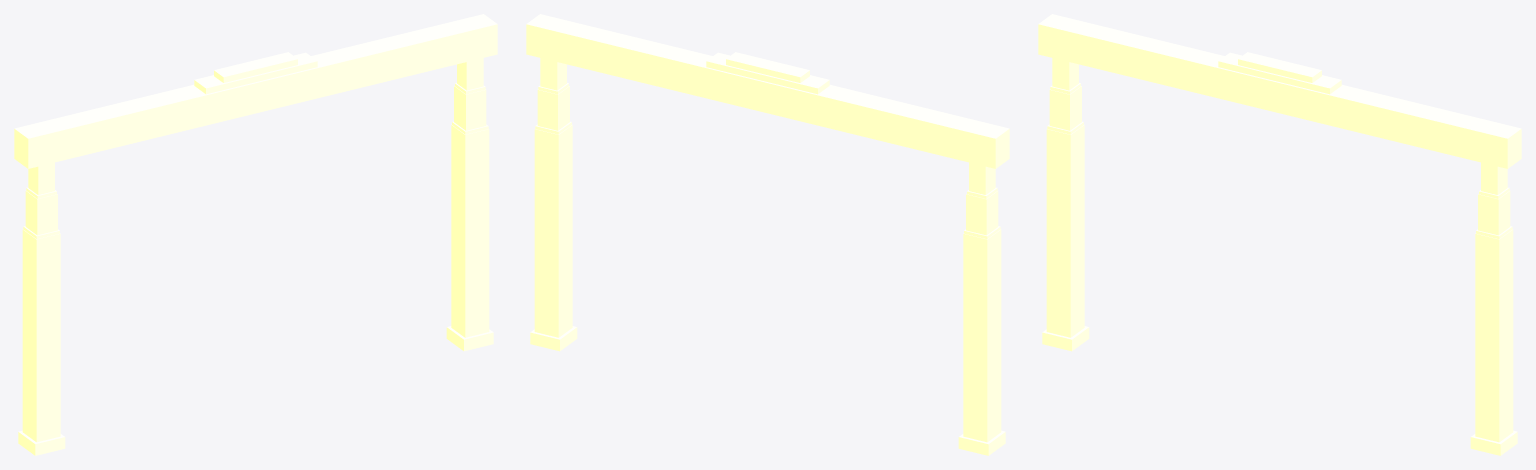
Rendered from bb_set_entrancearch.fbx.
The picture shows the model from 3 angles, left to right: view 1: azimuth 30°, elevation 25°; view 2: azimuth 150°, elevation 25°; view 3: azimuth 330°, elevation 25°; orthographic projection.
Parts seen in each view (by area): view 1: bb_set_entrancearch; view 2: bb_set_entrancearch; view 3: bb_set_entrancearch.
Part boxes in pixels (x1,y1,x2,y2): bb_set_entrancearch: (14, 14, 497, 455); bb_set_entrancearch: (526, 14, 1009, 455); bb_set_entrancearch: (1038, 14, 1521, 455).
Size of the model in its own units: 5.04 by 3.38 by 0.32.
